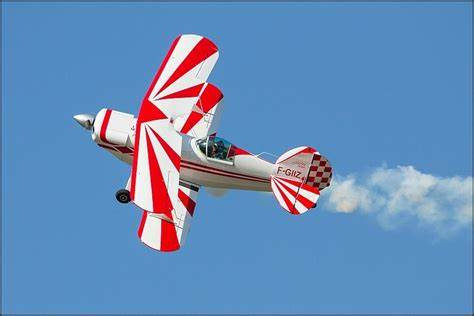Aeronef_de_loisir: (68, 24, 349, 259)
